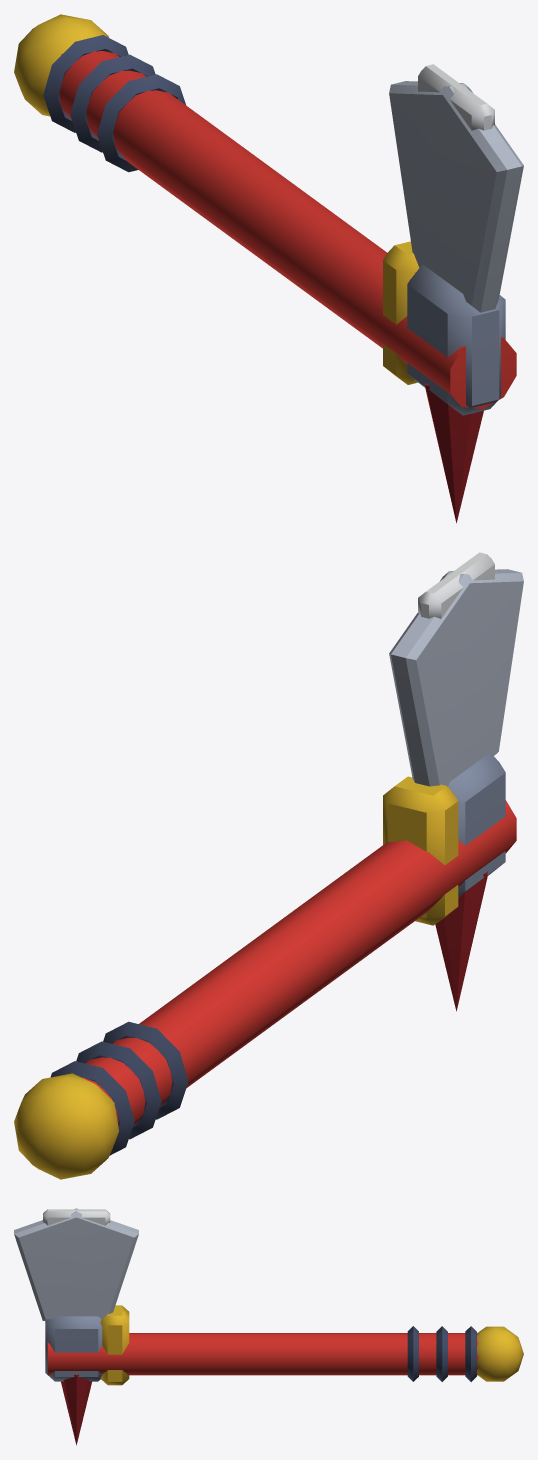
The model's file is w_m_axe.glb.
3 views of the same model, one above another, from view 1: azimuth 30°, elevation 25°; view 2: azimuth 150°, elevation 25°; view 3: azimuth 270°, elevation 25° (orthographic). The views are drawn at different scales.
Parts seen in each view (by area): view 1: body; view 2: body; view 3: body.
Boxes of the visible parts, box(x1,y1,x2,y2) form: body: box(14, 14, 523, 523); body: box(14, 552, 523, 1179); body: box(14, 1208, 523, 1445).
Size of the model in its own units: 0.0767 by 0.351 by 0.689.
